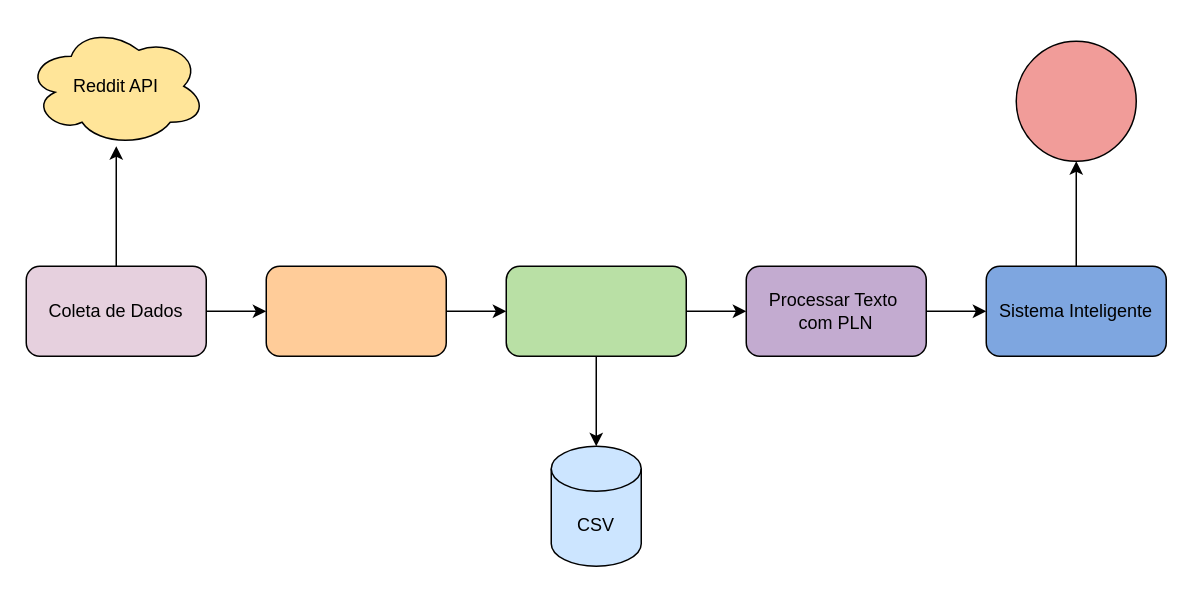
Image size: 1193x593. Some labels were removed from this diagram. Each missing label, with the centre of its shape:
"Armazenamento dos Resultados" belongs at point 595,310.
"Interface" belongs at point 1075,100.
"Processamento e Estruturação" belongs at point 355,310.
